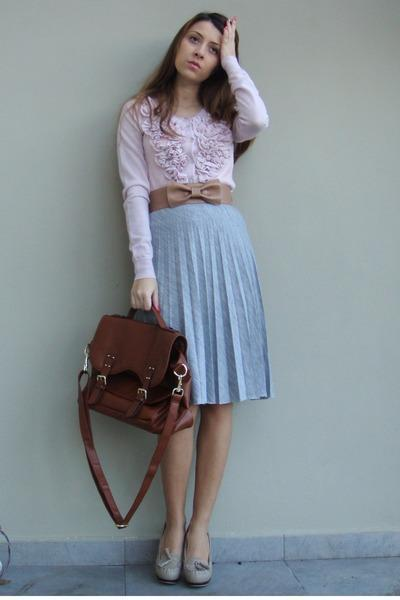bag: (70, 300, 199, 524)
shirt: (107, 60, 268, 275)
shoe: (137, 530, 213, 586)
skirt: (148, 203, 268, 407)
